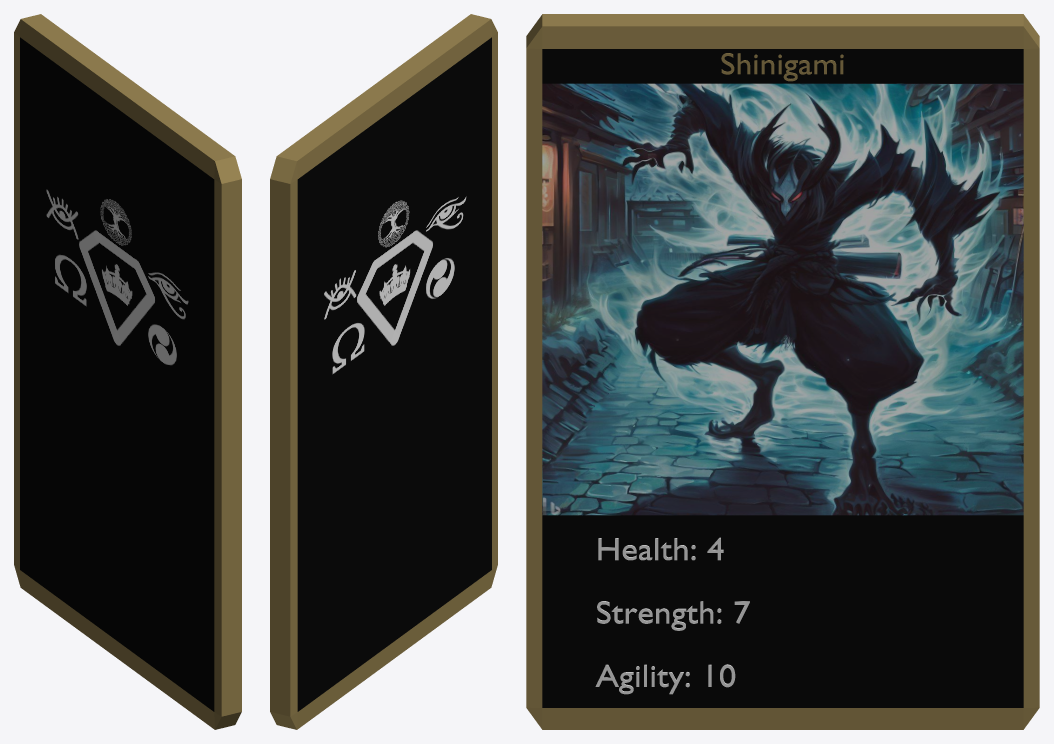
File: Shinigami.fbx
3 renders of one model, left to right at view 1: azimuth 30°, elevation 25°; view 2: azimuth 150°, elevation 25°; view 3: azimuth 270°, elevation 25°, orthographic. The views are drawn at different scales.
Visible parts, largest first — view 1: Shinigami; view 2: Shinigami; view 3: Shinigami.
Boxes of the visible parts, bbox=[...] form: Shinigami: bbox=[14, 14, 241, 729]; Shinigami: bbox=[270, 14, 497, 729]; Shinigami: bbox=[526, 14, 1039, 729].
Bounding box in the file's own units: 20.33 × 482 × 319.
5 materials, 2 textured.
